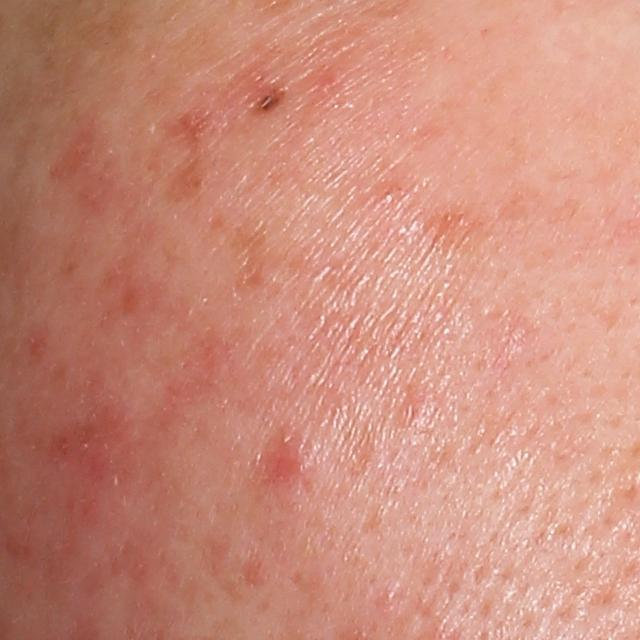nevus: (249, 83, 294, 112)
papule: (268, 433, 309, 490)
